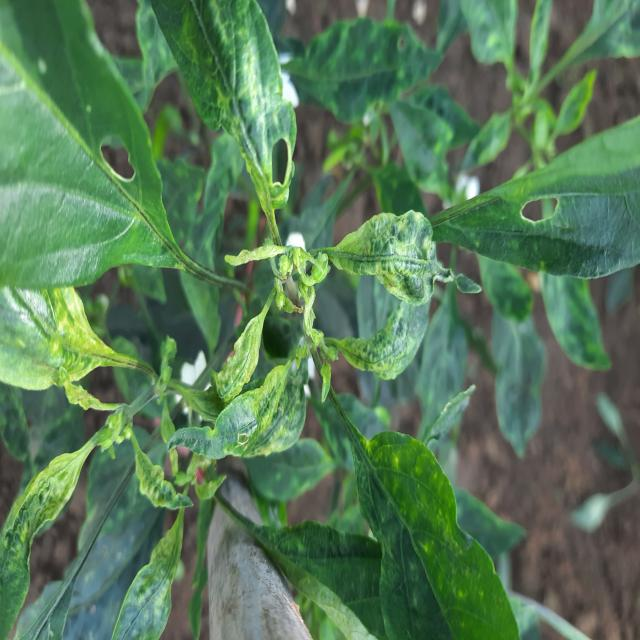thrips: (329, 198, 480, 327)
